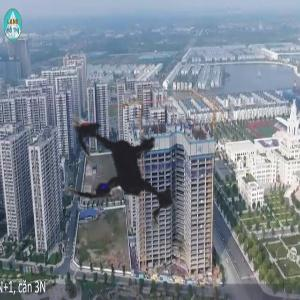drone: (3, 47, 249, 293)
